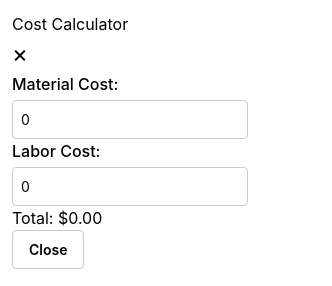
Test: M25 Manufacturing & Analysis Components › CostCalculator calculates total
Replace the text in the number field below "Material Cost:" with "100" at [130, 120], box [12,100,248,139]
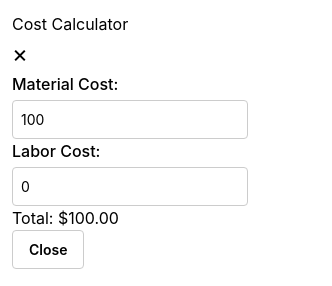
Replace the text in the number field below "Labor Cost:" with "50" at [130, 186], box [12,167,248,206]
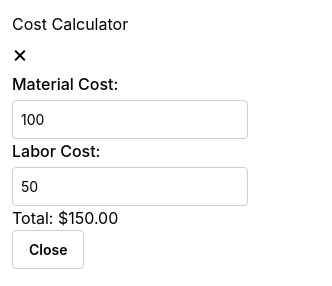
Result: the text "Total: $150.00" is shown at [12,208,118,228]
